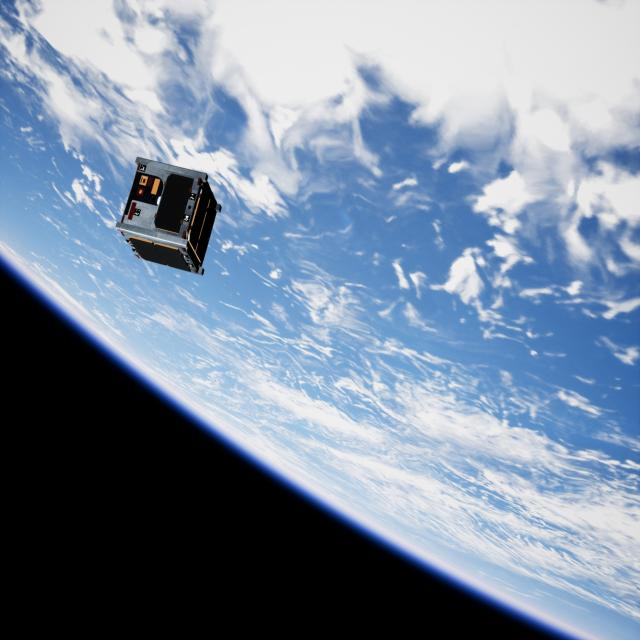medium_debris: (118, 152, 228, 276)
